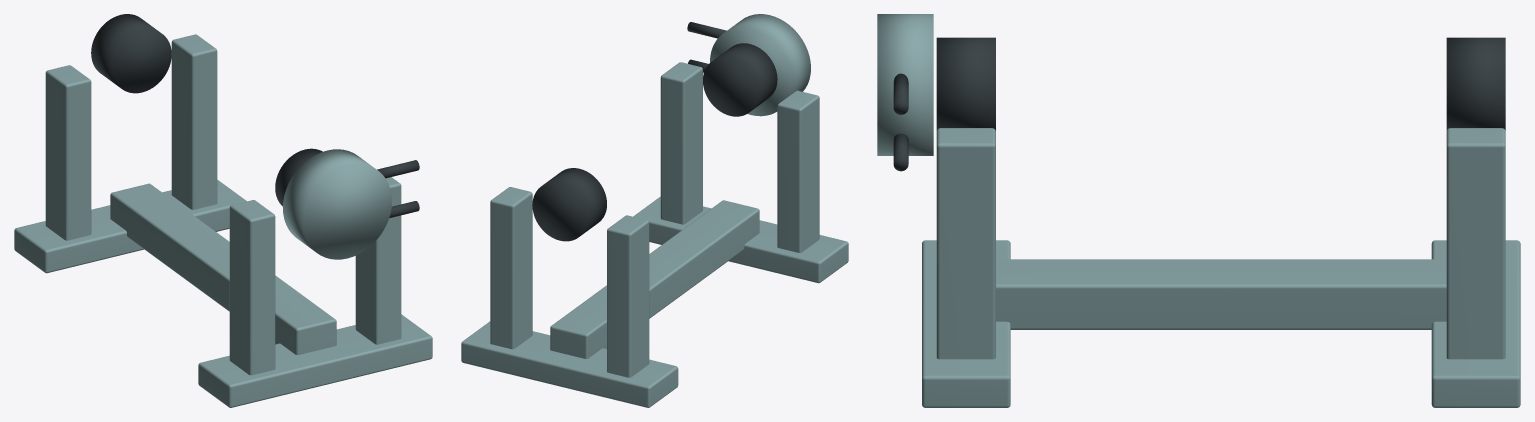
The model's file is trawl_winch.glb.
3 views of the same model, side by side, from view 1: azimuth 30°, elevation 25°; view 2: azimuth 150°, elevation 25°; view 3: azimuth 270°, elevation 25° (orthographic). The views are drawn at different scales.
Visible parts, largest first — view 1: Base tie, Hydraulic motor, Bolted foot, Bearing pedestal.002, Bearing pedestal, Bearing pedestal.003, Bolted foot.001, Bearing pedestal.001, Bearing housing.001, Bearing housing, Hydraulic feed.001; view 2: Base tie, Bolted foot.001, Bearing pedestal.003, Bearing pedestal, Bearing pedestal.001, Bearing pedestal.002, Bolted foot, Hydraulic motor, Bearing housing, Bearing housing.001, Hydraulic feed.001; view 3: Base tie, Bearing pedestal.001, Bearing pedestal.003, Hydraulic motor, Bolted foot.001, Bolted foot, Bearing housing.001, Bearing housing, Hydraulic feed.001.
Part boxes in pixels (x1,y1,x2,y2): Base tie: (110, 183, 336, 354); Hydraulic motor: (283, 149, 391, 259); Bolted foot: (198, 314, 432, 407); Bearing pedestal.002: (45, 65, 91, 240); Bearing pedestal: (229, 200, 275, 375); Bearing pedestal.003: (171, 34, 217, 209); Bolted foot.001: (14, 179, 246, 273); Bearing pedestal.001: (355, 177, 401, 344); Bearing housing.001: (91, 14, 171, 93); Bearing housing: (275, 148, 322, 206); Hydraulic feed.001: (377, 160, 419, 178); Base tie: (550, 200, 759, 358); Bolted foot.001: (461, 321, 678, 407); Bearing pedestal.003: (490, 187, 532, 349); Bearing pedestal: (777, 90, 819, 252); Bearing pedestal.001: (660, 62, 702, 224); Bearing pedestal.002: (607, 215, 649, 377); Bolted foot: (633, 196, 848, 283); Hydraulic motor: (710, 14, 810, 116); Bearing housing: (703, 43, 777, 116); Bearing housing.001: (532, 168, 606, 241); Hydraulic feed.001: (687, 22, 726, 38); Base tie: (996, 259, 1446, 329); Bearing pedestal.001: (936, 128, 995, 359); Bearing pedestal.003: (1446, 128, 1505, 359); Hydraulic motor: (877, 14, 933, 155); Bolted foot.001: (1431, 240, 1520, 407); Bolted foot: (922, 240, 1010, 407); Bearing housing.001: (1446, 37, 1505, 130); Bearing housing: (936, 37, 995, 130); Hydraulic feed.001: (893, 73, 908, 114).
Bounding box in the file's own units: 1.1 × 1.19 × 2.17.
